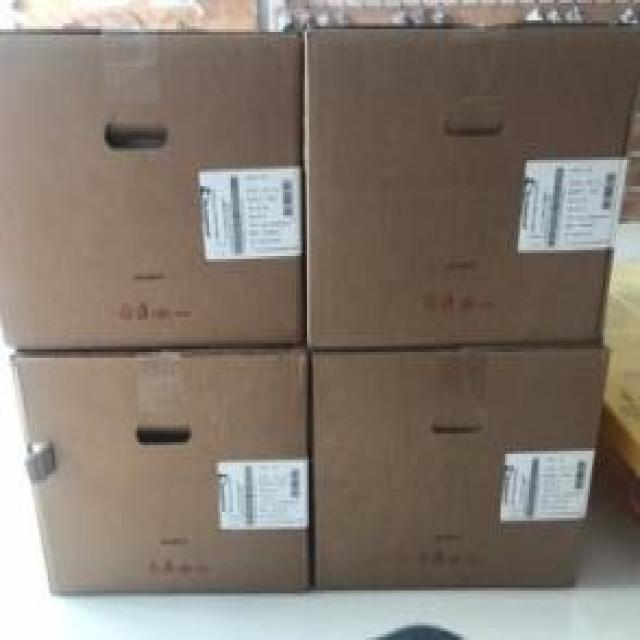box: (301, 25, 637, 352), (1, 34, 303, 351), (9, 350, 310, 596), (312, 346, 610, 590)
